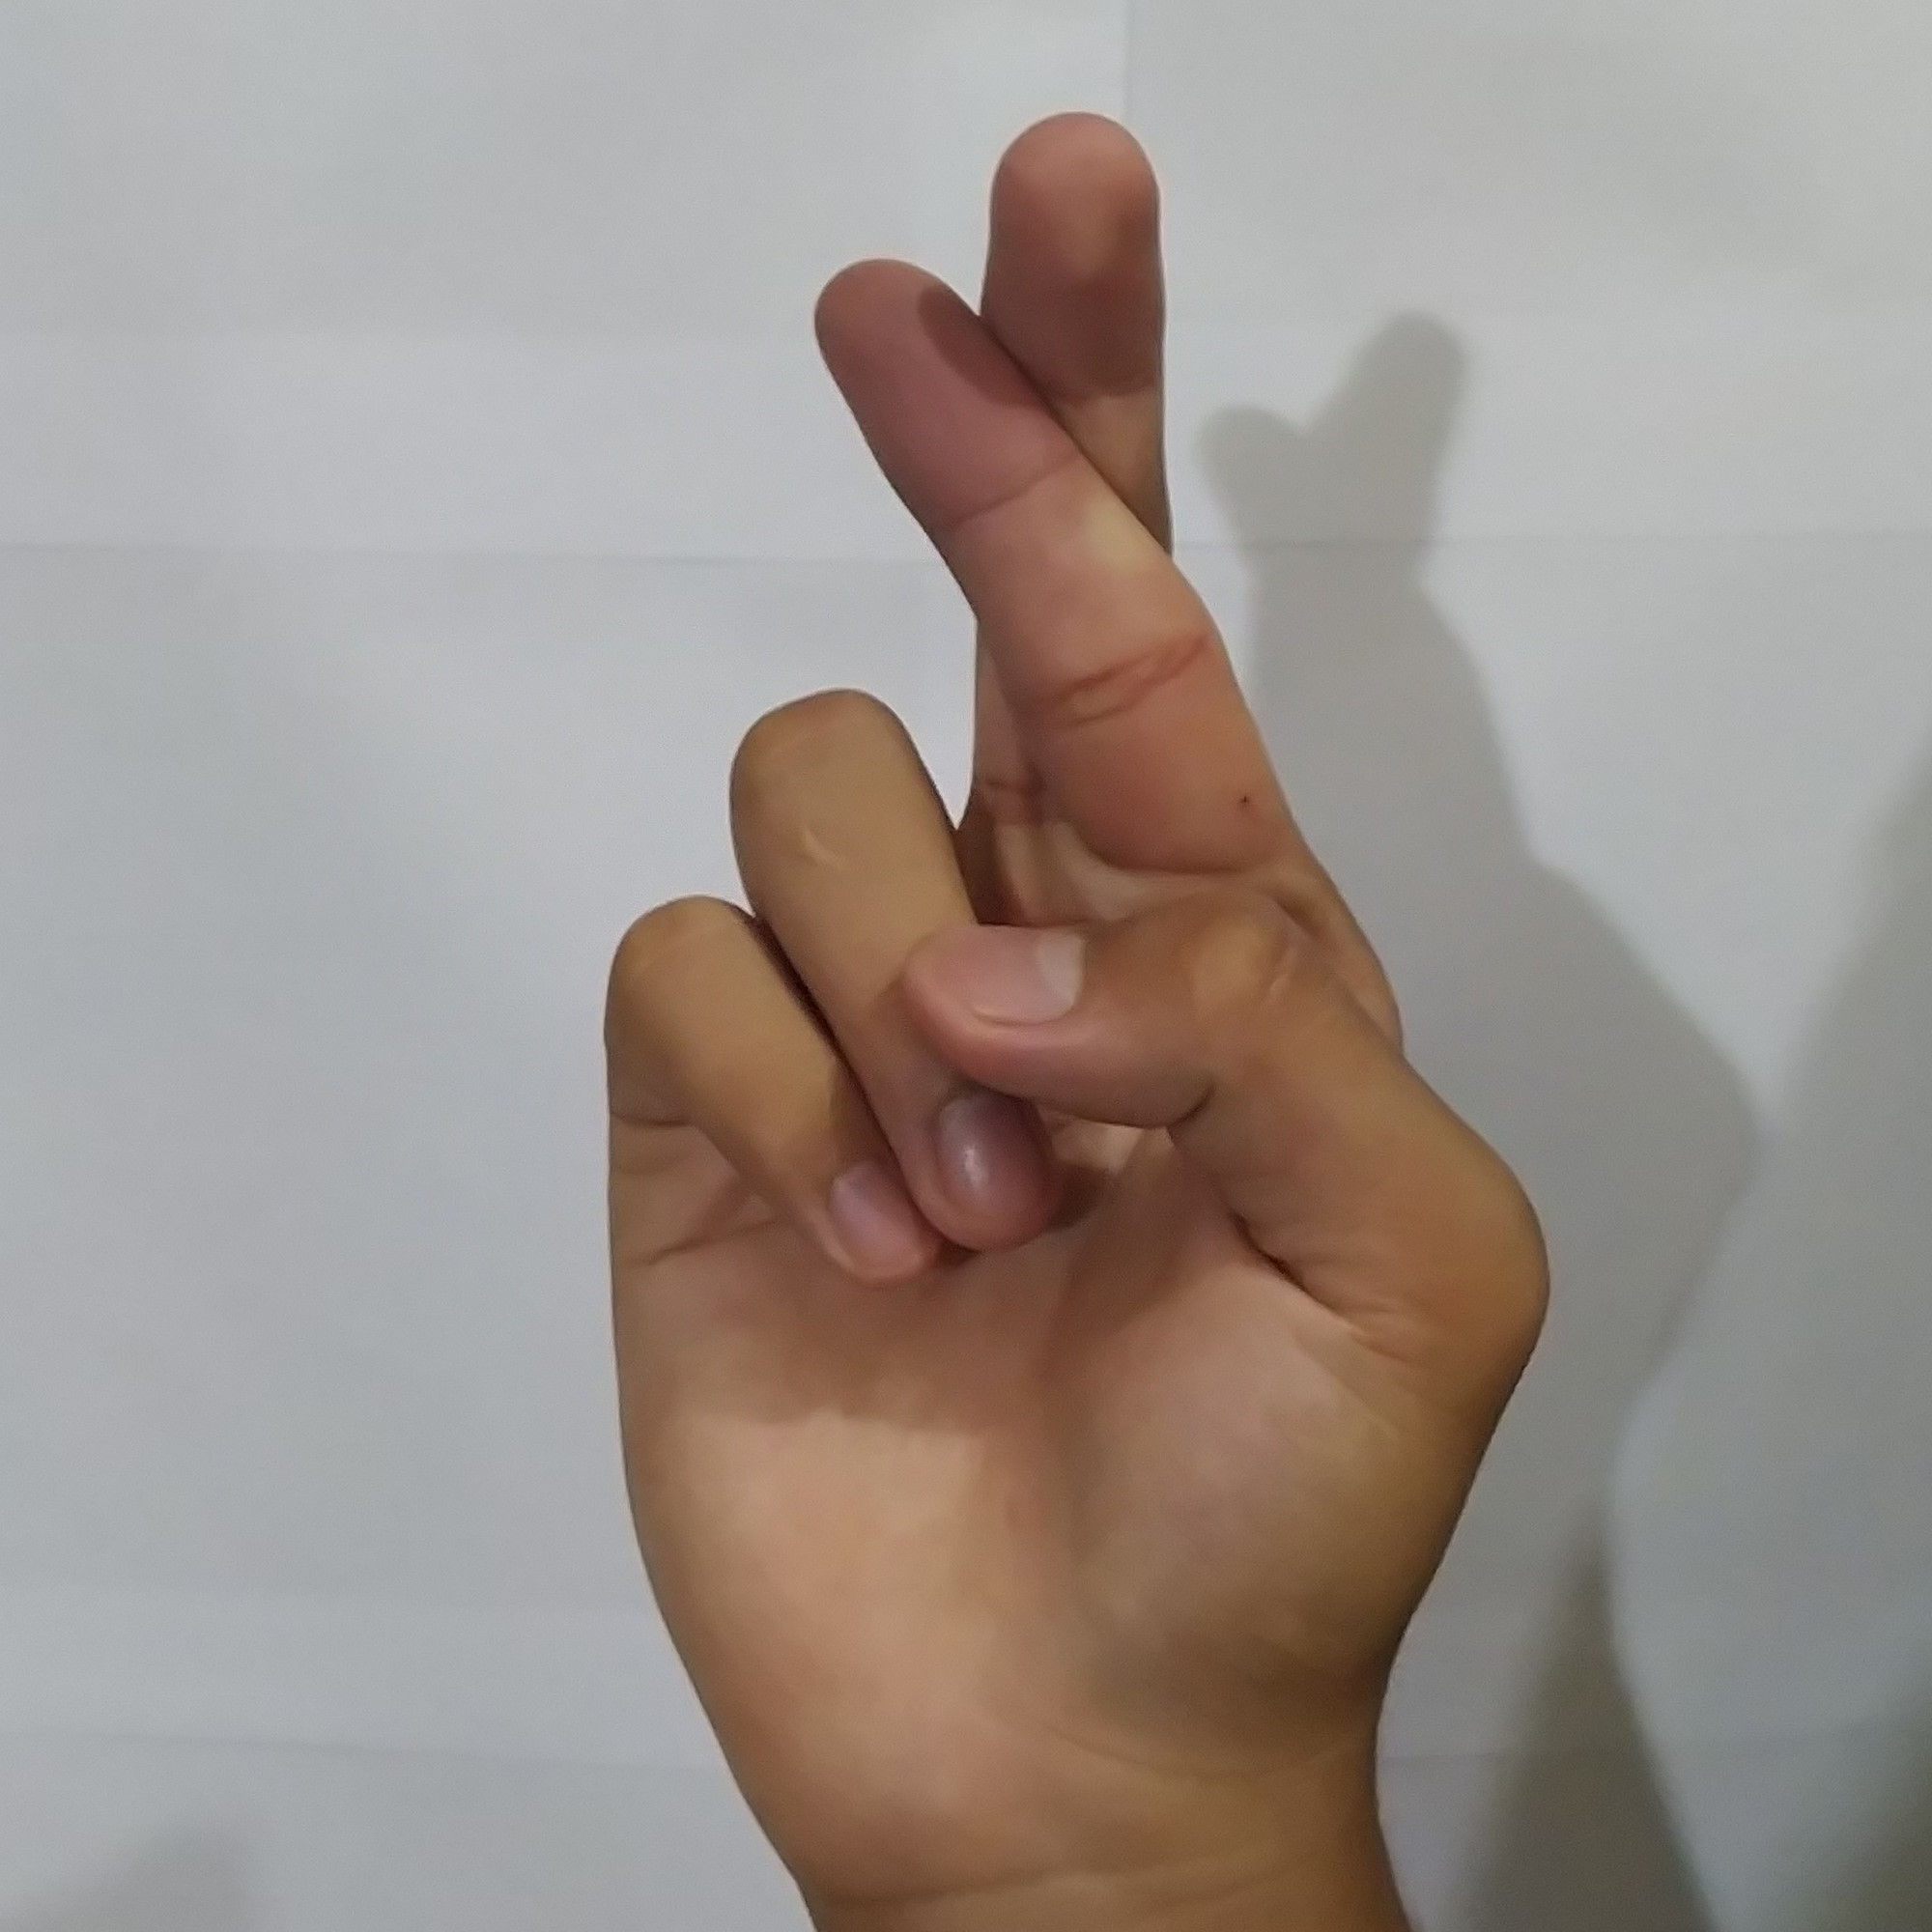R: (566, 81, 1576, 1851)
